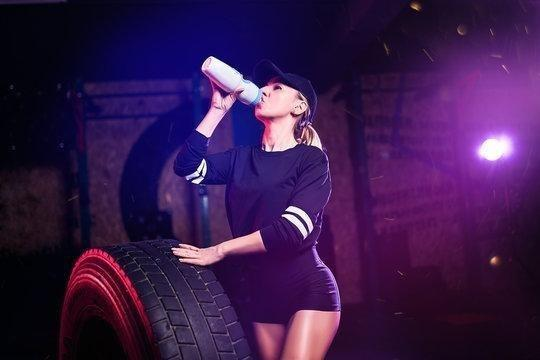gym bottle: (201, 55, 262, 107)
